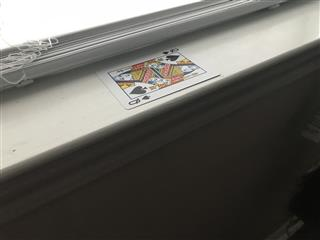QueenOfSpades: (94, 44, 221, 110)
